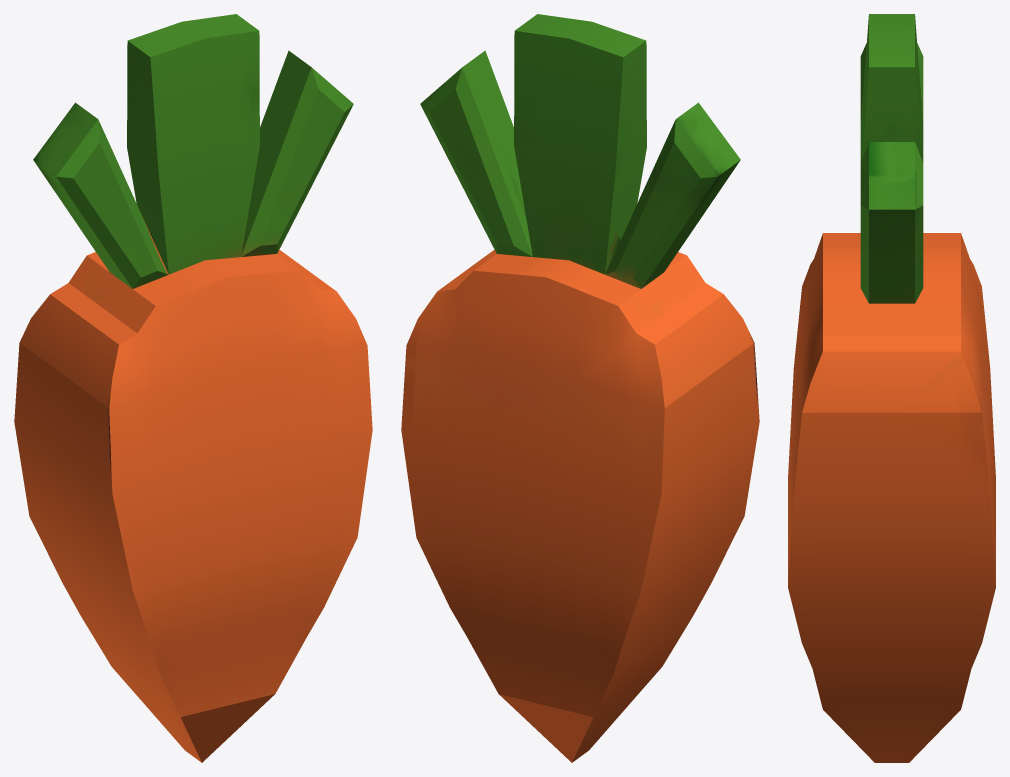
File: CatCarrot.fbx
3 renders of one model, left to right at view 1: azimuth 30°, elevation 25°; view 2: azimuth 150°, elevation 25°; view 3: azimuth 270°, elevation 25°, orthographic.
Visible parts, largest first — view 1: Cube; view 2: Cube; view 3: Cube.
Part boxes in pixels (<box>): Cube: <box>14,14,372,762</box>; Cube: <box>401,14,759,762</box>; Cube: <box>788,14,995,762</box>.
Bounding box in the file's own units: 102 × 237 × 61.49.
Materials: 1 (1 with a texture image).
